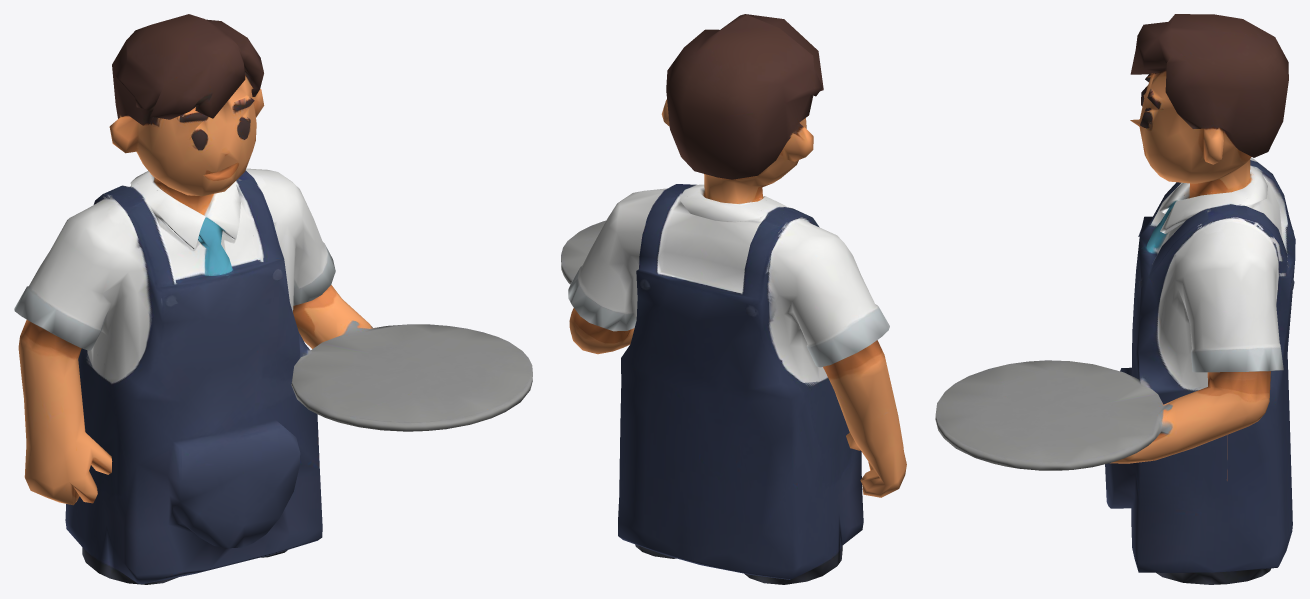
Rendered from waiter.glb.
3 renders of one model, left to right at view 1: azimuth 30°, elevation 25°; view 2: azimuth 150°, elevation 25°; view 3: azimuth 270°, elevation 25°, orthographic.
Parts seen in each view (by area): view 1: tripo_node_ceeda706-d941-47ea-beba-bf50024c6c44; view 2: tripo_node_ceeda706-d941-47ea-beba-bf50024c6c44; view 3: tripo_node_ceeda706-d941-47ea-beba-bf50024c6c44.
Boxes of the visible parts, left/top/right/bottom form: tripo_node_ceeda706-d941-47ea-beba-bf50024c6c44: left=14, top=14, right=532, bottom=584; tripo_node_ceeda706-d941-47ea-beba-bf50024c6c44: left=561, top=14, right=906, bottom=584; tripo_node_ceeda706-d941-47ea-beba-bf50024c6c44: left=935, top=14, right=1295, bottom=584.
Size of the model in its own units: 0.8041 by 0.9795 by 0.6188.
Materials: 1 (1 with a texture image).
